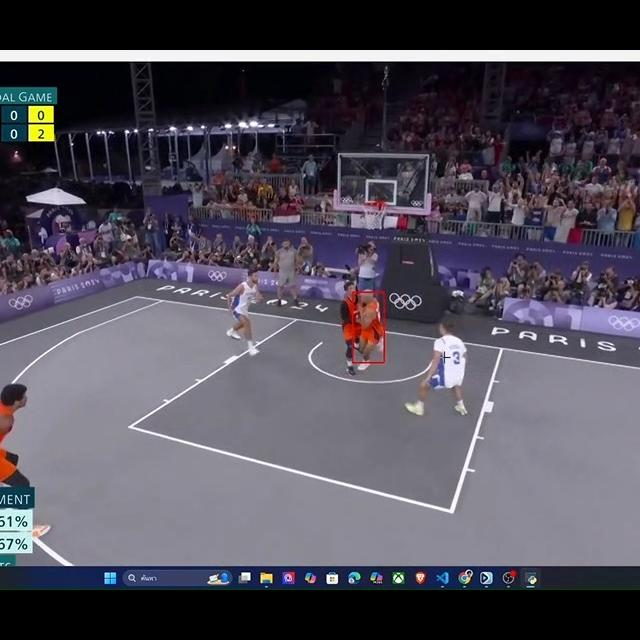hoop: (358, 199, 388, 232)
